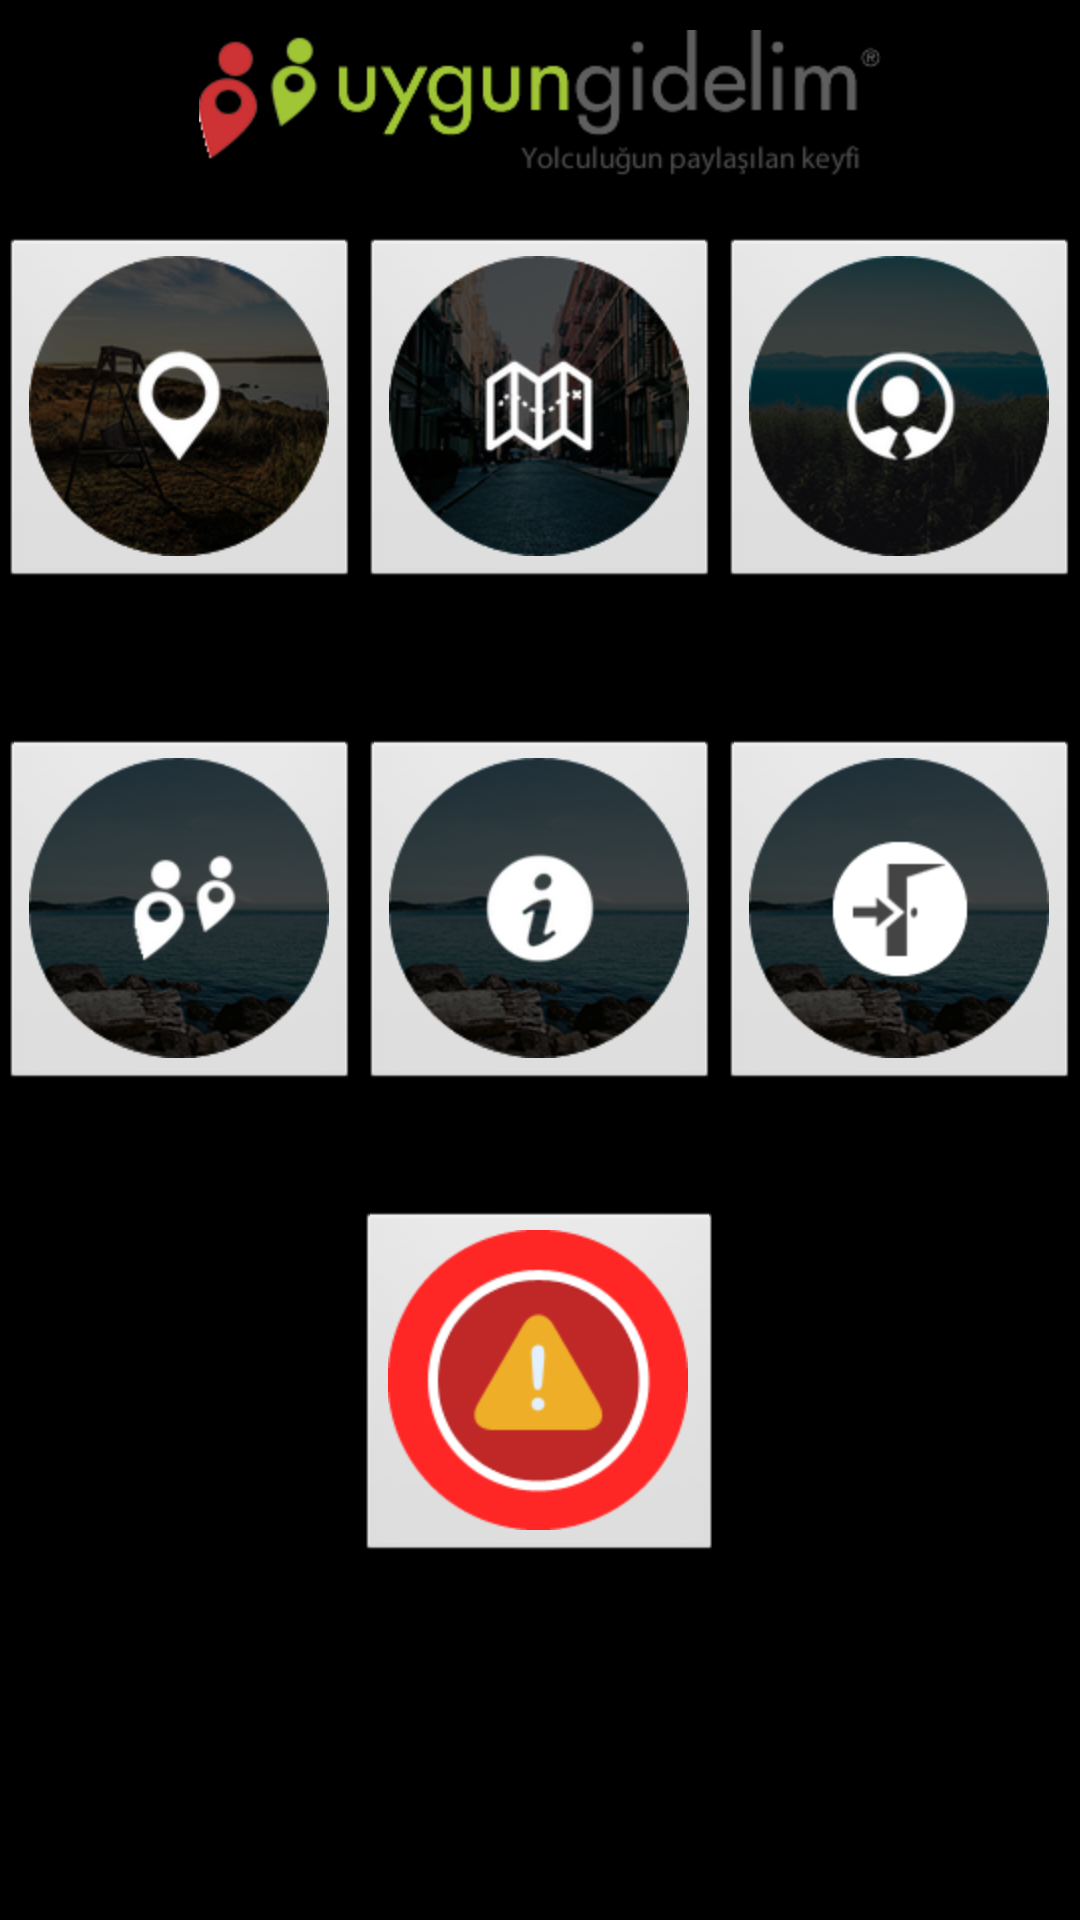

Screen size 1080px×1920px. Icon name, then its box in pixels as (x1, y1, x2, y2):
cikis: (730, 741, 1068, 1077)
panic: (366, 1213, 712, 1549)
yolculuklarim: (370, 239, 708, 575)
